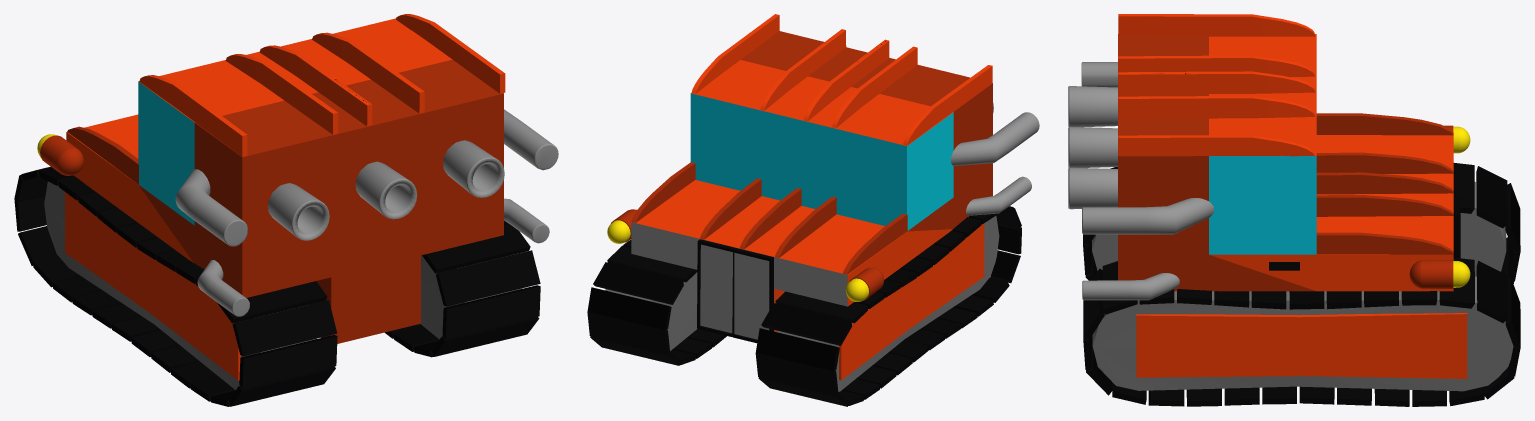
File: Body_Bulldozer_Zona3.fbx
3 renders of one model, left to right at view 1: azimuth 30°, elevation 25°; view 2: azimuth 150°, elevation 25°; view 3: azimuth 270°, elevation 25°, orthographic. The views are drawn at different scales.
Visible parts, largest first — view 1: Body.001; view 2: Body.001; view 3: Body.001.
Boxes of the visible parts, box(x1,y1,x2,y2) form: Body.001: box(14, 14, 558, 406); Body.001: box(587, 14, 1039, 406); Body.001: box(1068, 14, 1520, 406).
Bounding box in the file's own units: 874 × 684 × 1068.
Materials: 1 (1 with a texture image).
